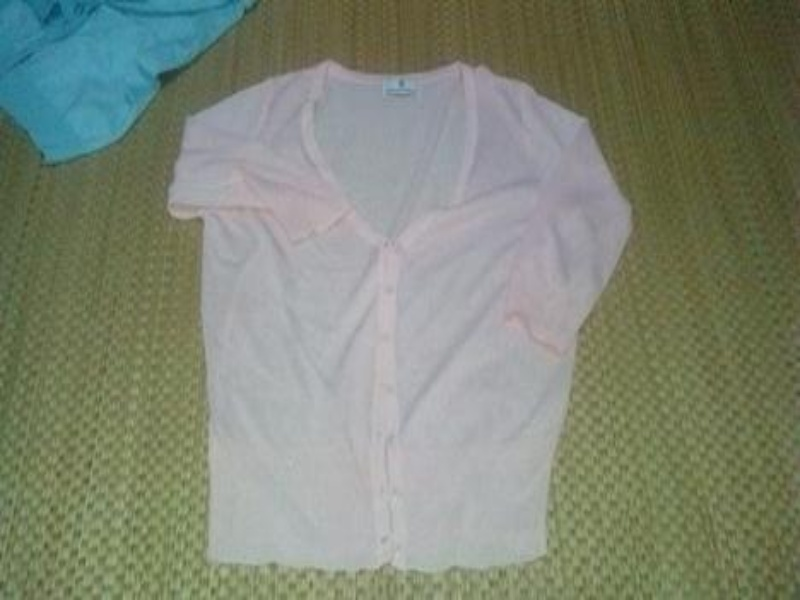long_sleeved_shirt: (166, 59, 636, 573)
